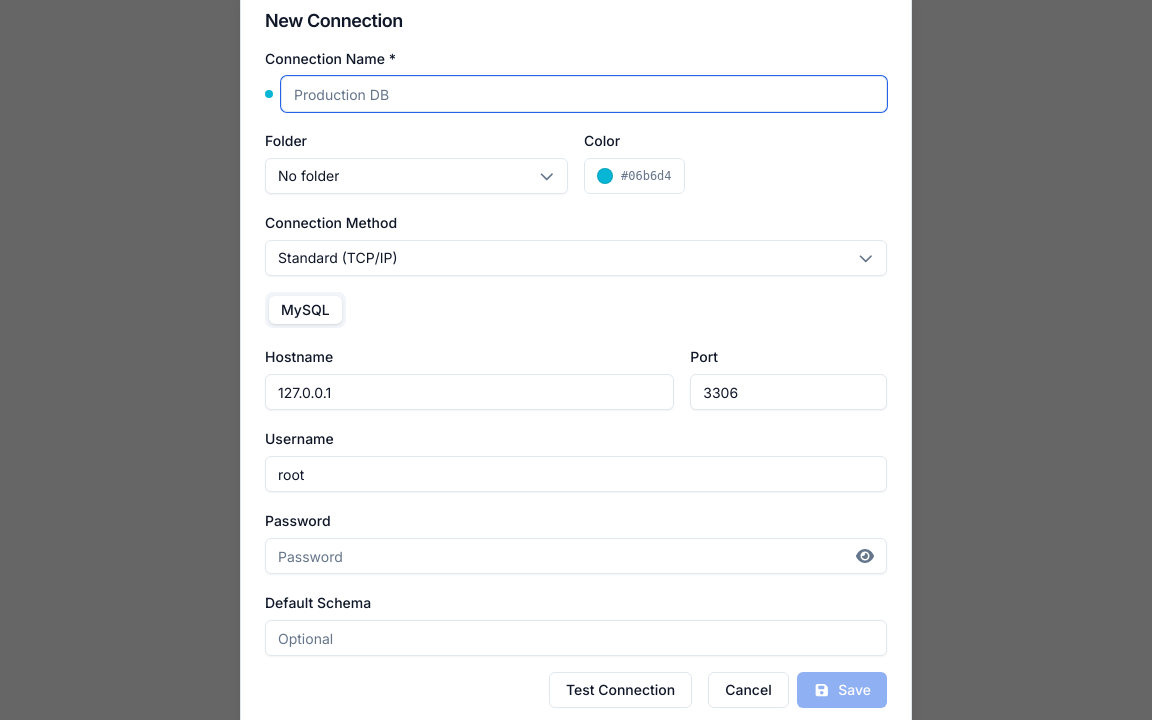
Test: ConnectionFormModal › Save button becomes enabled after entering a name
The image size is (1152, 720).
Type "My Connection" into the field with placeholder "Production DB" at (584, 94), box left=281, top=76, right=887, bottom=112
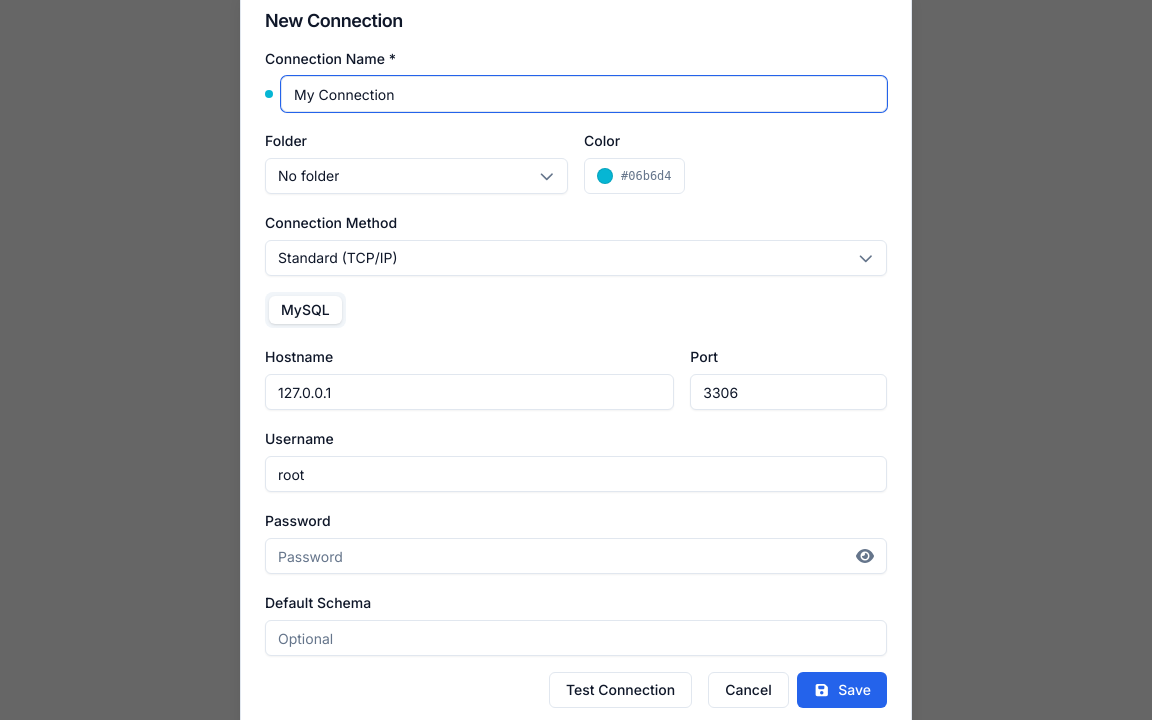
Now the button "Save" is enabled, box left=797, top=672, right=887, bottom=708
